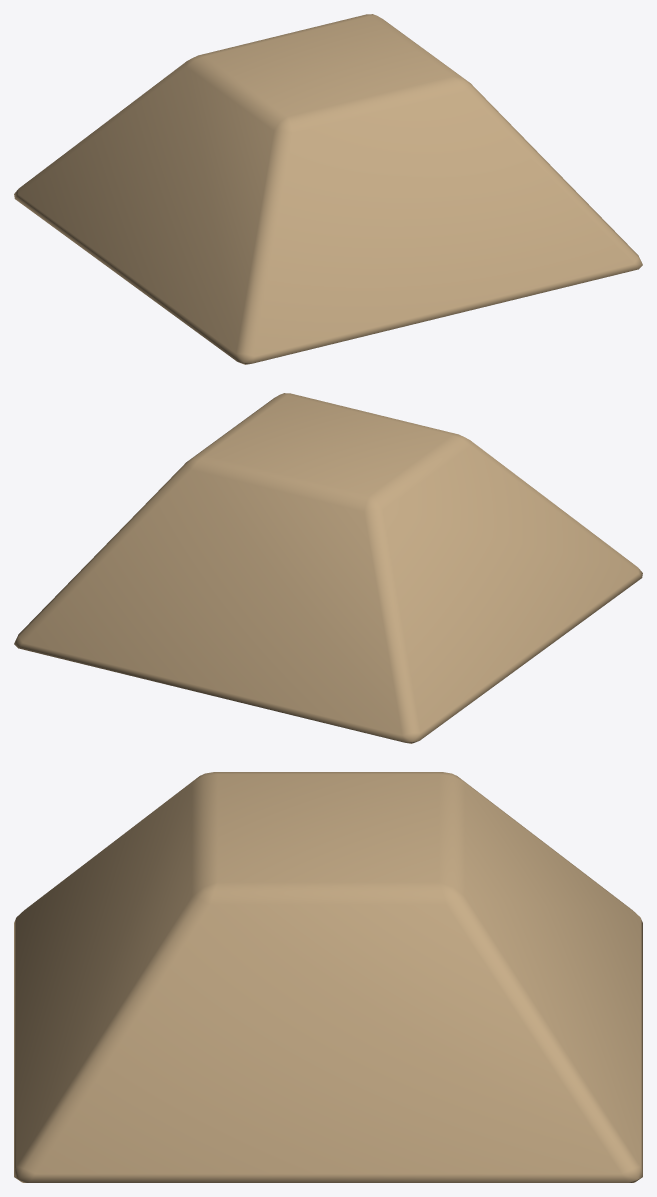
Rendered from SmallerRock.fbx.
The picture shows the model from 3 angles, top to bottom: view 1: azimuth 30°, elevation 25°; view 2: azimuth 150°, elevation 25°; view 3: azimuth 270°, elevation 25°; orthographic projection. The views are drawn at different scales.
Parts seen in each view (by area): view 1: SmallerRock; view 2: SmallerRock; view 3: SmallerRock.
Part boxes in pixels (box(x1,y1,x2,y2)): SmallerRock: box(14, 14, 642, 364); SmallerRock: box(14, 393, 642, 743); SmallerRock: box(14, 772, 642, 1182).
Size of the model in its own units: 1.23 by 0.4839 by 1.23.
